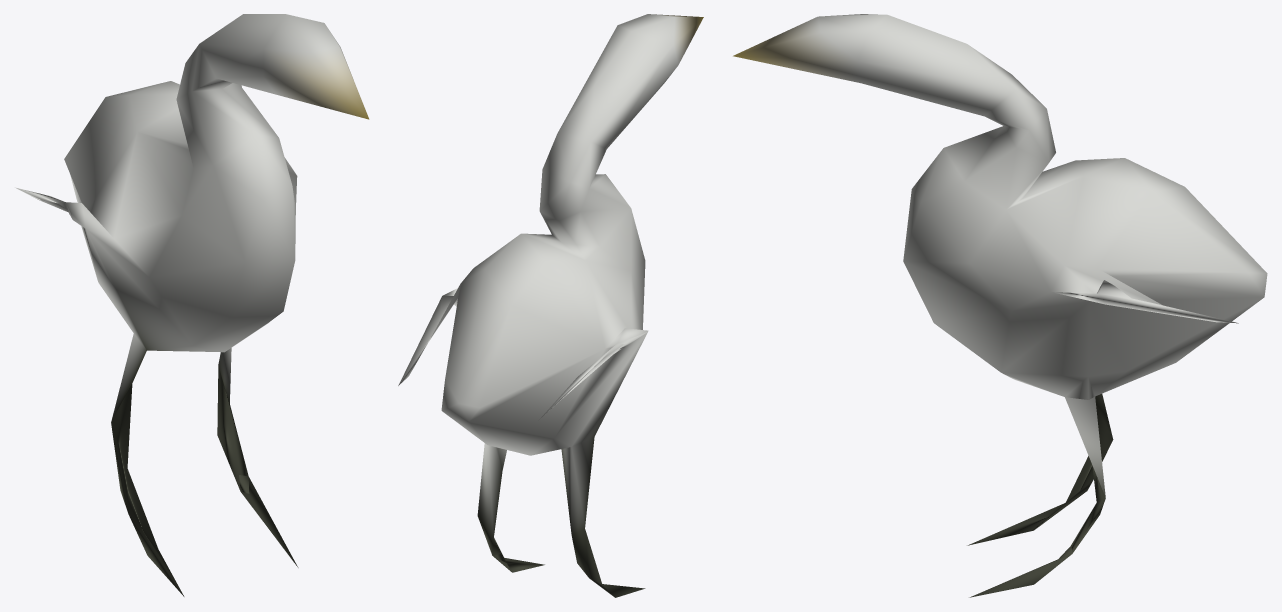
The model's file is cattle-egret-1.glb.
3 renders of one model, left to right at view 1: azimuth 30°, elevation 25°; view 2: azimuth 150°, elevation 25°; view 3: azimuth 270°, elevation 25°, orthographic. The views are drawn at different scales.
Parts seen in each view (by area): view 1: cattle-egret; view 2: cattle-egret; view 3: cattle-egret.
Boxes of the visible parts, x1,y1,x2,y2 form: cattle-egret: [15, 14, 369, 596]; cattle-egret: [398, 14, 703, 597]; cattle-egret: [733, 14, 1267, 597].
Size of the model in its own units: 0.2185 by 0.5668 by 0.4928.
